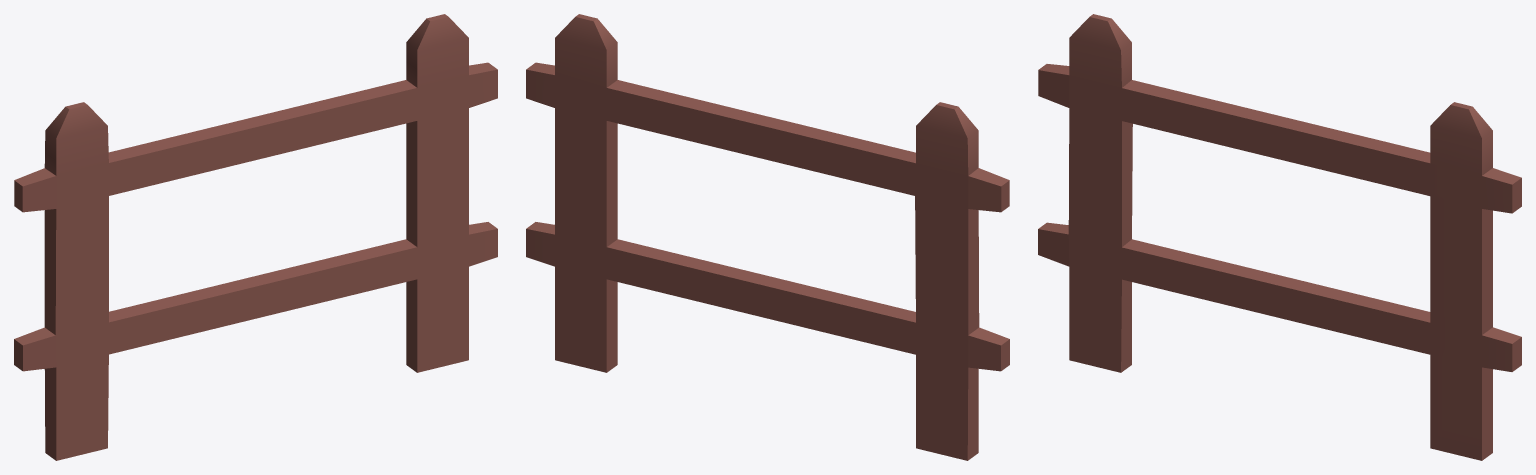
Rendered from FenseWood2.fbx.
The picture shows the model from 3 angles, left to right: view 1: azimuth 30°, elevation 25°; view 2: azimuth 150°, elevation 25°; view 3: azimuth 330°, elevation 25°; orthographic projection.
Parts seen in each view (by area): view 1: pCube4; view 2: pCube4; view 3: pCube4.
Part boxes in pixels (x1,y1,x2,y2): pCube4: (14, 14, 497, 460); pCube4: (526, 14, 1009, 460); pCube4: (1038, 14, 1521, 460).
Bounding box in the file's own units: 6.6 × 4.59 × 0.2635.
